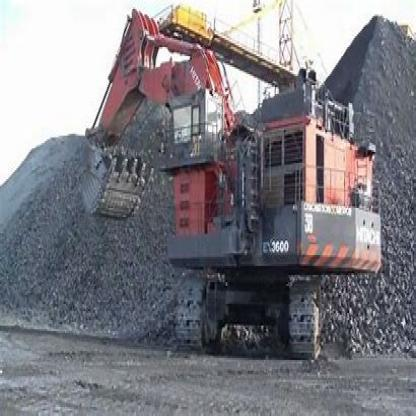excavator: (79, 5, 375, 360)
